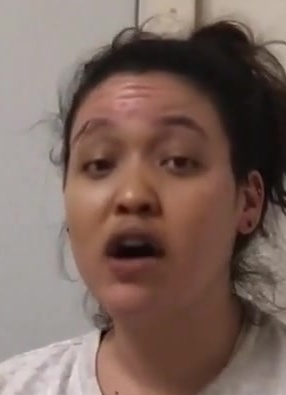eb_f: (66, 113, 216, 186)
